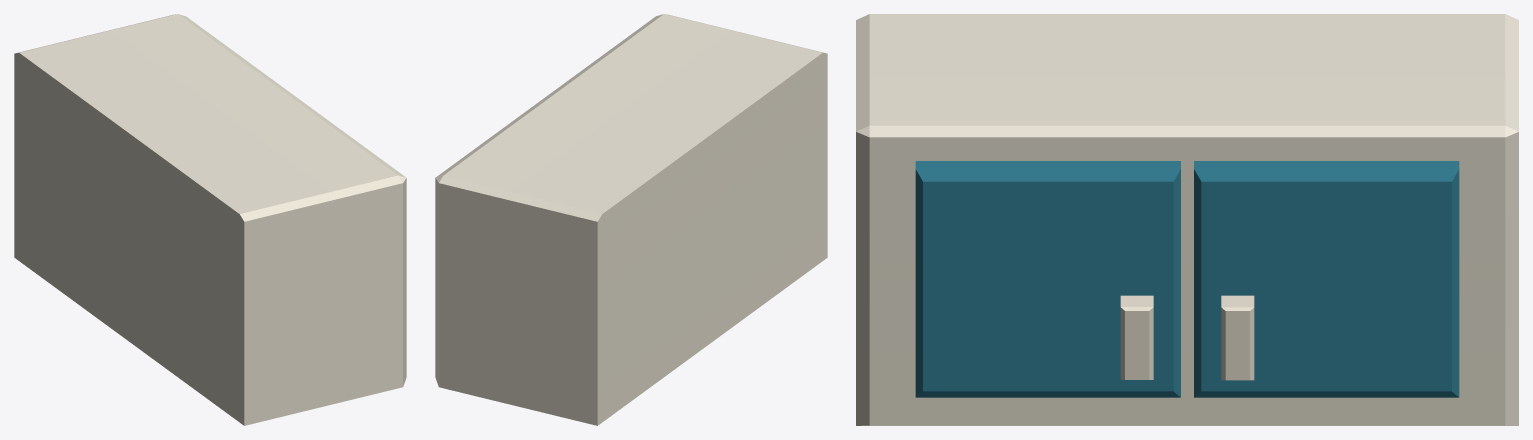
The model's file is HighCabinet1.glb.
3 renders of one model, left to right at view 1: azimuth 30°, elevation 25°; view 2: azimuth 150°, elevation 25°; view 3: azimuth 270°, elevation 25°, orthographic. The views are drawn at different scales.
Visible parts, largest first — view 1: HighCabinet1; view 2: HighCabinet1; view 3: HighCabinet1.
Part boxes in pixels (left/top/right/bottom): HighCabinet1: left=14, top=14, right=406, bottom=425; HighCabinet1: left=435, top=14, right=827, bottom=425; HighCabinet1: left=856, top=14, right=1518, bottom=425.
Bounding box in the file's own units: 0.5066 × 0.5 × 1.
Materials: 1 (1 with a texture image).
